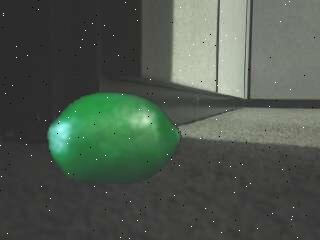Lime: (48, 94, 183, 188)
